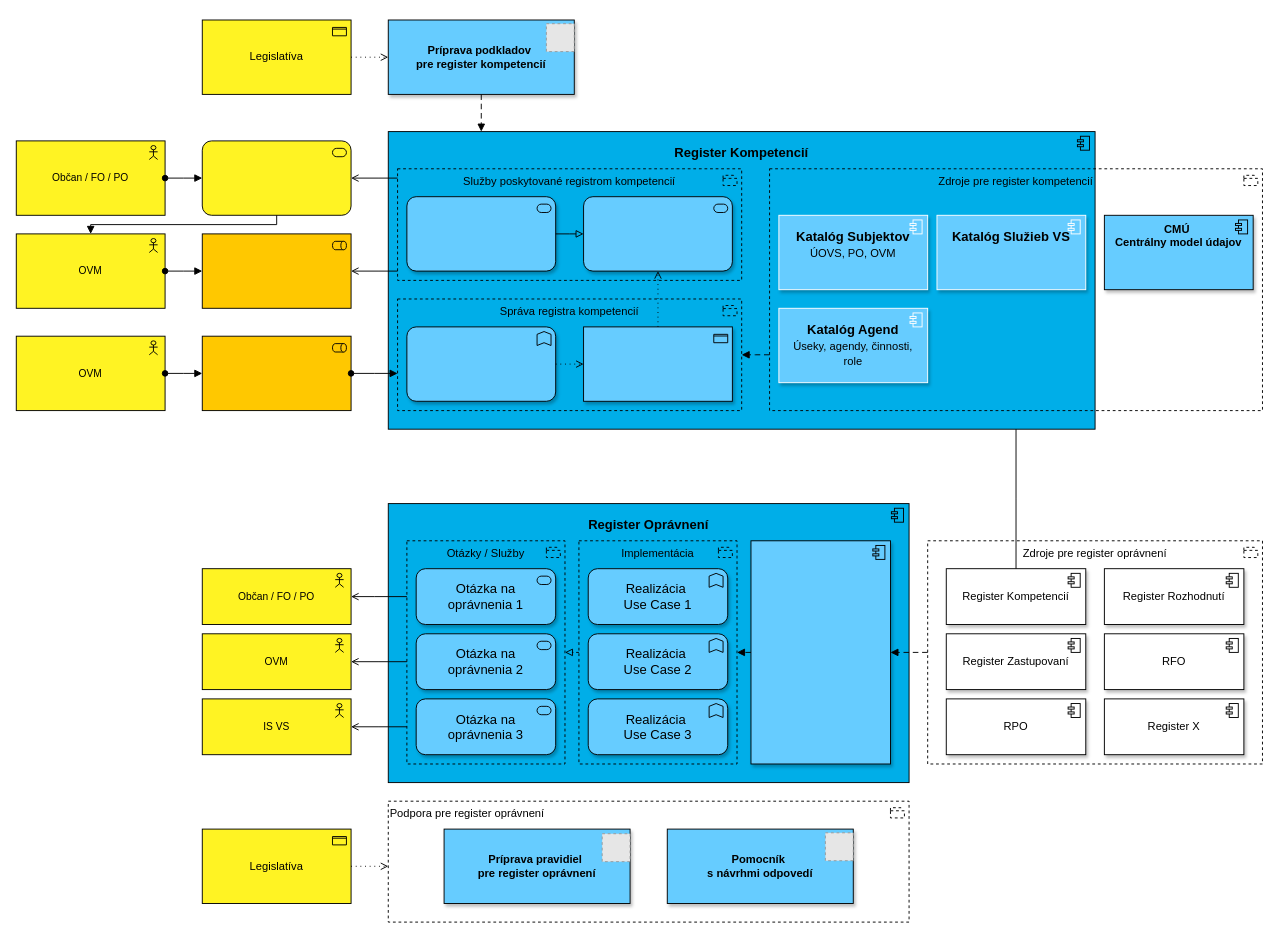
This 1279x938 diagram has some shape labels left out. Grey dashed boxes stand in for pictures. The centre of each missing label's shape, as x and y in pixels:
"Integrácie na registre poskytujúce podklady pre oprávnenia" goes at pixel 821 653.
"Kompetencia Možnosť" goes at pixel 276 270.
"Kompetencia Pôsobnosť" goes at pixel 276 373.
"Kompetencie Pôsobnosť, Možnosť" goes at pixel 658 365.
"Manažment zmien Schvaľovanie údajov" goes at pixel 481 365.
"Poskytovanie digitálnej mapy kompetencií" goes at pixel 658 235.
"Poskytovanie odpovedí na kompetencie" goes at pixel 481 235.
"Životná situácia" goes at pixel 276 177.
